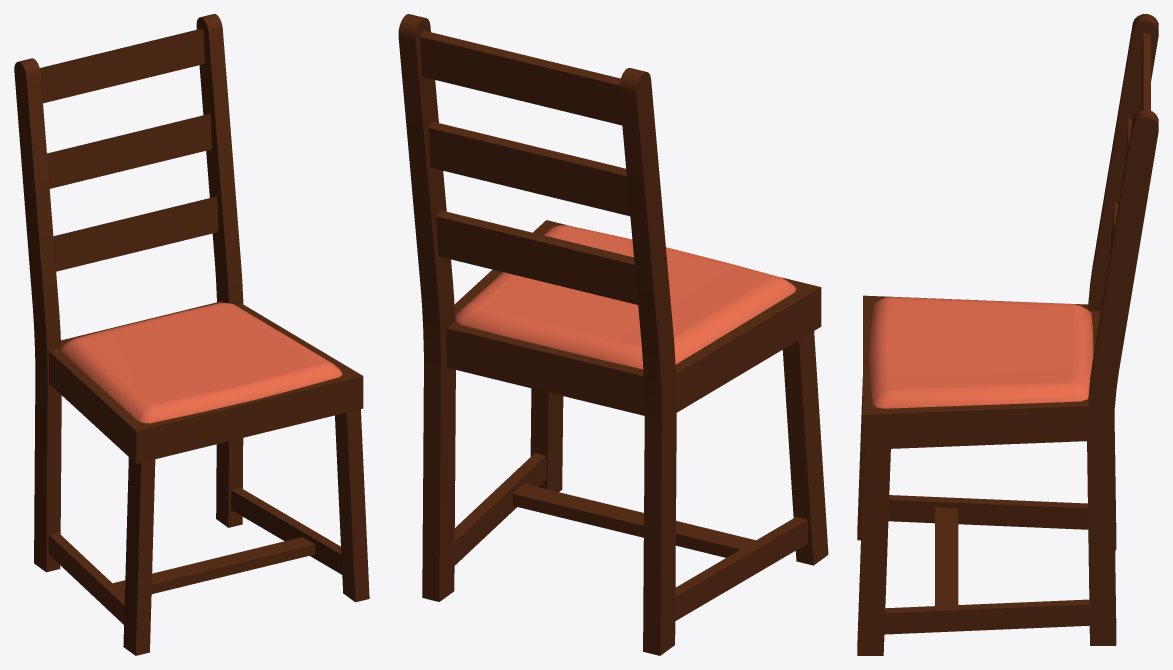
File: chairTest.fbx
3 renders of one model, left to right at view 1: azimuth 30°, elevation 25°; view 2: azimuth 150°, elevation 25°; view 3: azimuth 270°, elevation 25°, orthographic. The views are drawn at different scales.
Parts seen in each view (by area): view 1: dining_chair_01; view 2: dining_chair_01; view 3: dining_chair_01.
Boxes of the visible parts, left/top/right/bottom form: dining_chair_01: left=14, top=14, right=369, bottom=655; dining_chair_01: left=398, top=14, right=828, bottom=655; dining_chair_01: left=857, top=14, right=1158, bottom=655.
Bounding box in the file's own units: 65.1 × 131 × 67.47.
